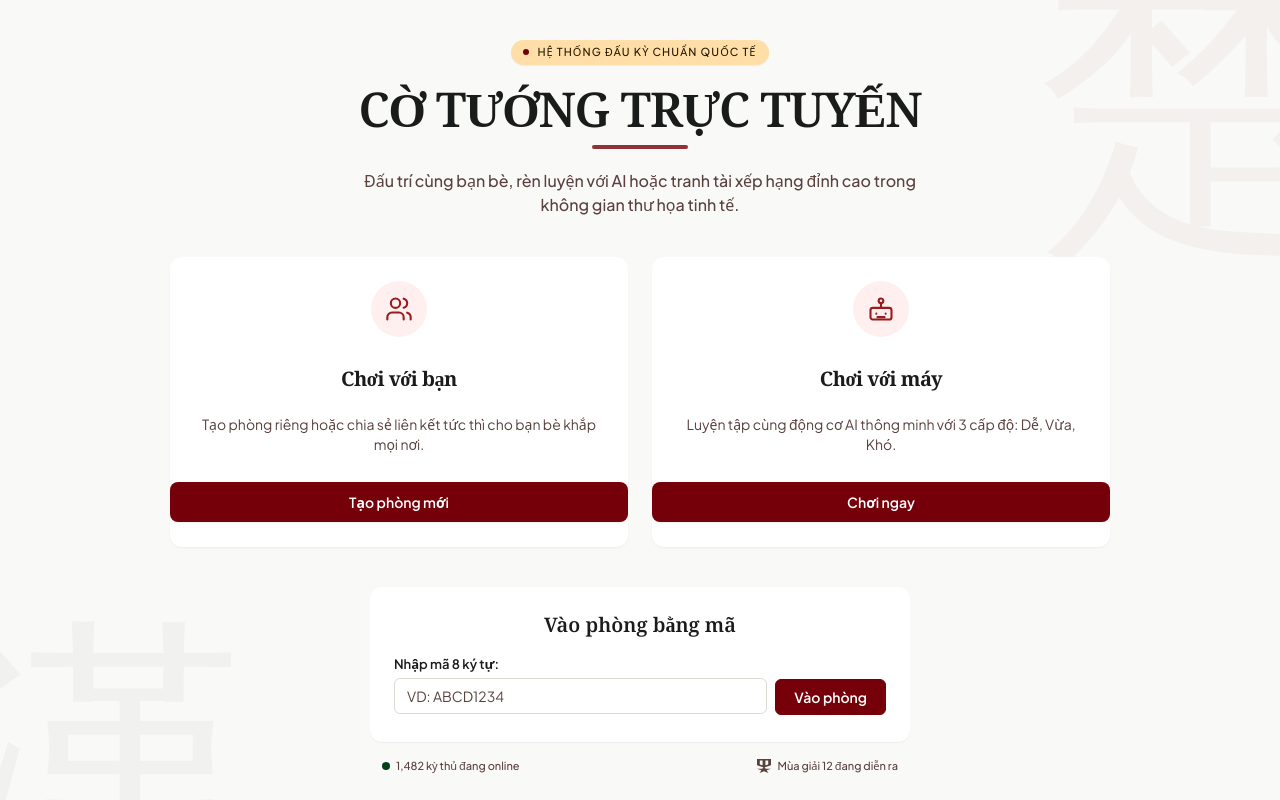
Test case: HomePage › shows the join error for MATKETN9 next to the field
Type "MATKETN9" into the field named "Vào phòng bằng mã" at (581, 696), box x1=394 y1=678 x2=767 y2=714
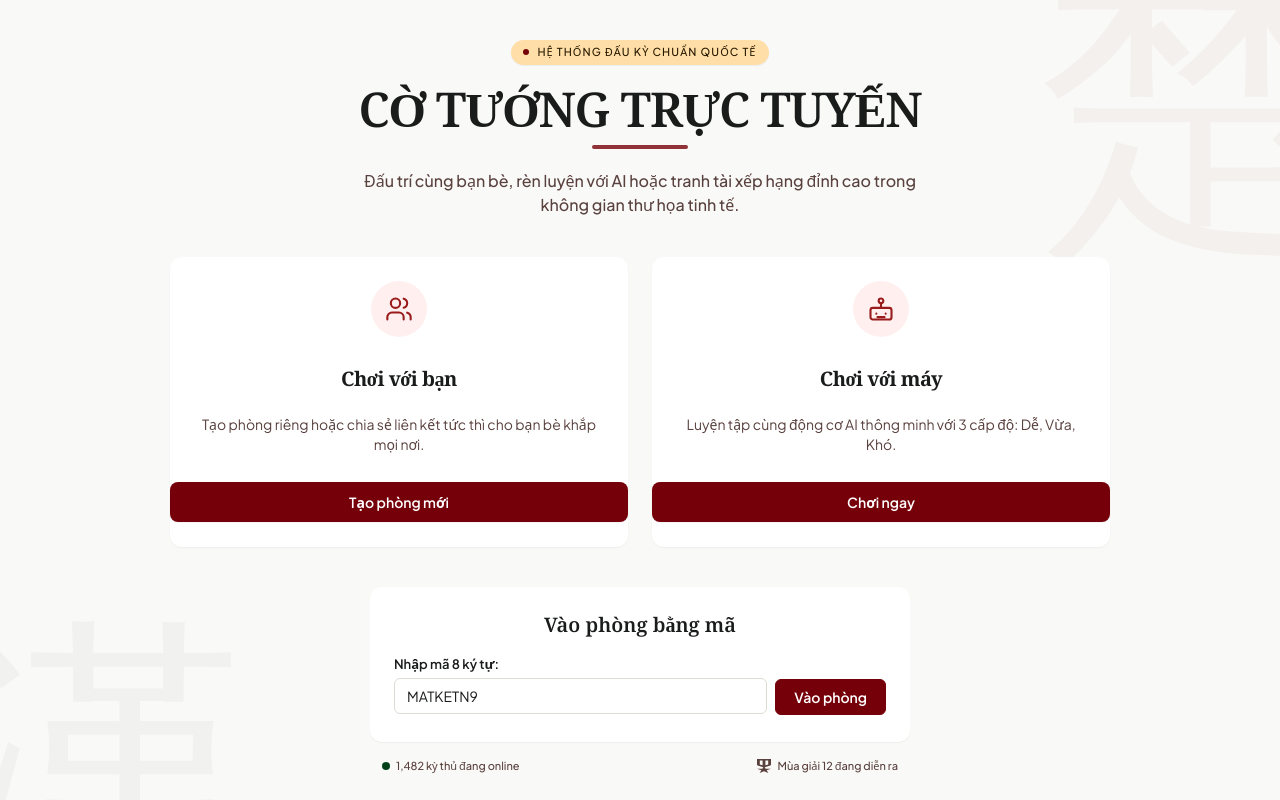
Click the button "Vào phòng" at (831, 696), box x1=775 y1=678 x2=886 y2=714
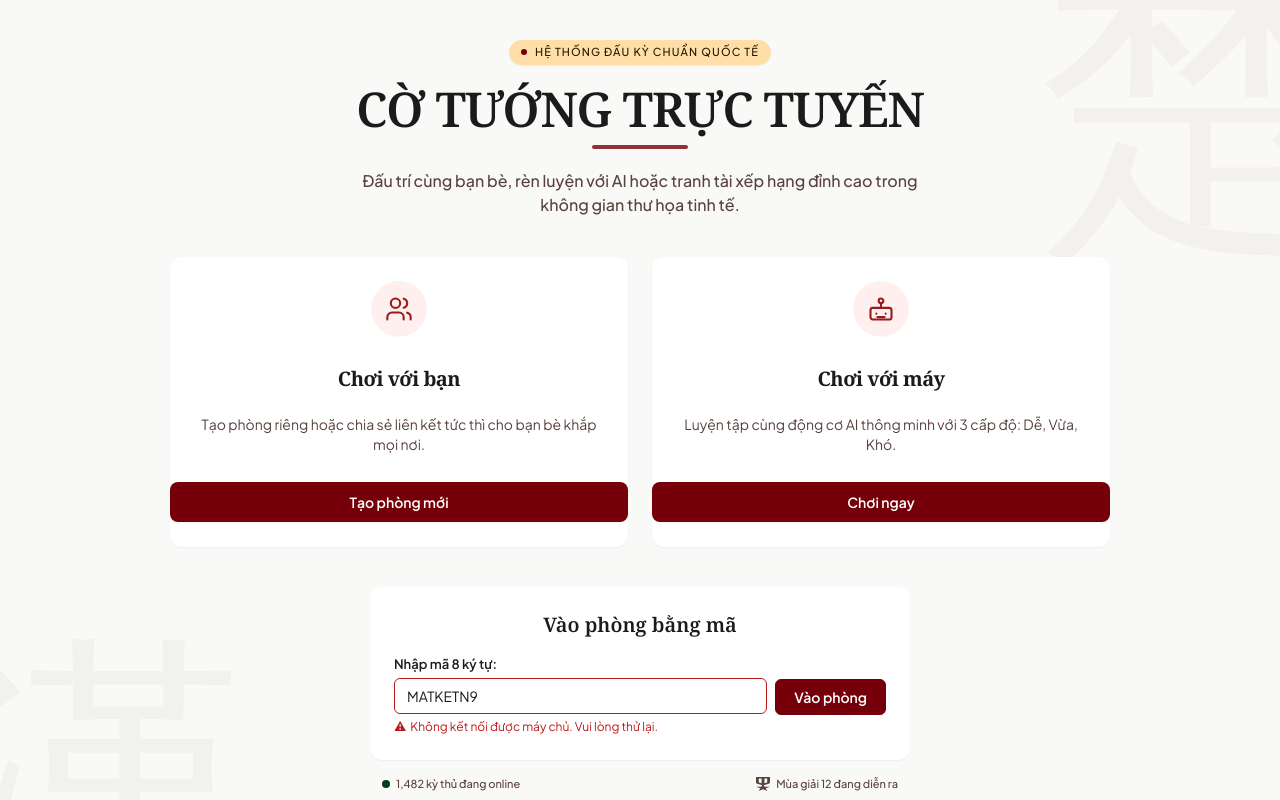
Check: the text "Không kết nối được máy chủ. Vui lòng thử lại." is shown, box x1=410 y1=719 x2=658 y2=734
